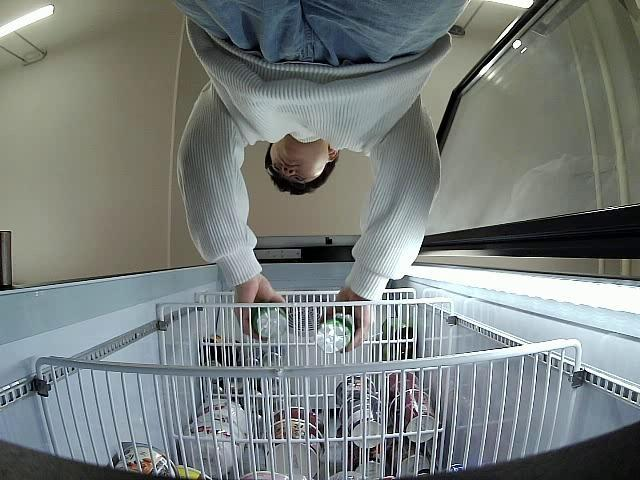18_trevi: (315, 310, 359, 357), (252, 301, 286, 340)
